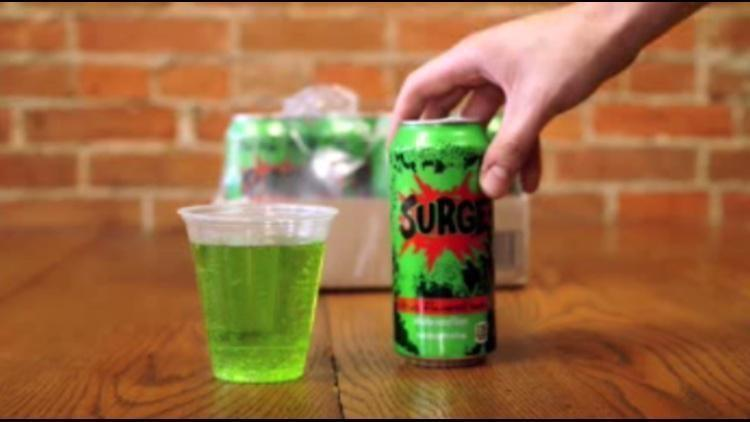cup-disposable: (177, 199, 339, 386)
tin can: (387, 114, 499, 370)
